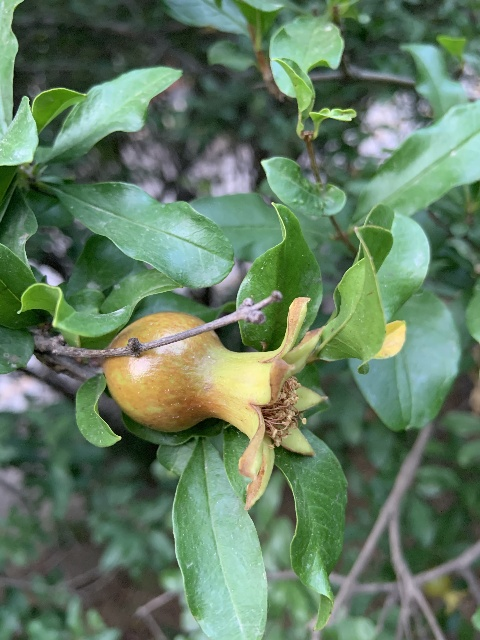early-fruit: (105, 296, 333, 510)
